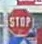stop: (6, 6, 33, 36)
